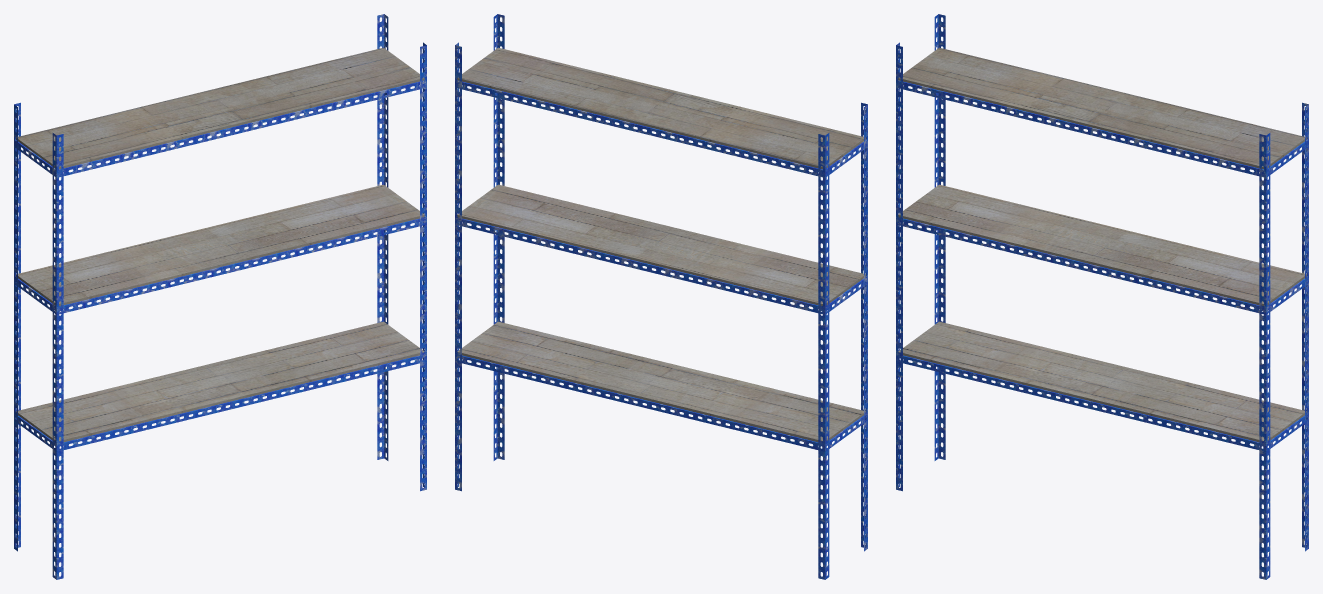
The picture shows the model from 3 angles, left to right: view 1: azimuth 30°, elevation 25°; view 2: azimuth 150°, elevation 25°; view 3: azimuth 330°, elevation 25°; orthographic projection.
Parts seen in each view (by area): view 1: rack.018; view 2: rack.018; view 3: rack.018.
Part boxes in pixels (x1,y1,x2,y2): rack.018: (14, 14, 426, 579); rack.018: (455, 14, 867, 579); rack.018: (896, 14, 1308, 579).
Bounding box in the file's own units: 2.41 × 2.76 × 0.48.
Materials: 2 (2 with a texture image).
